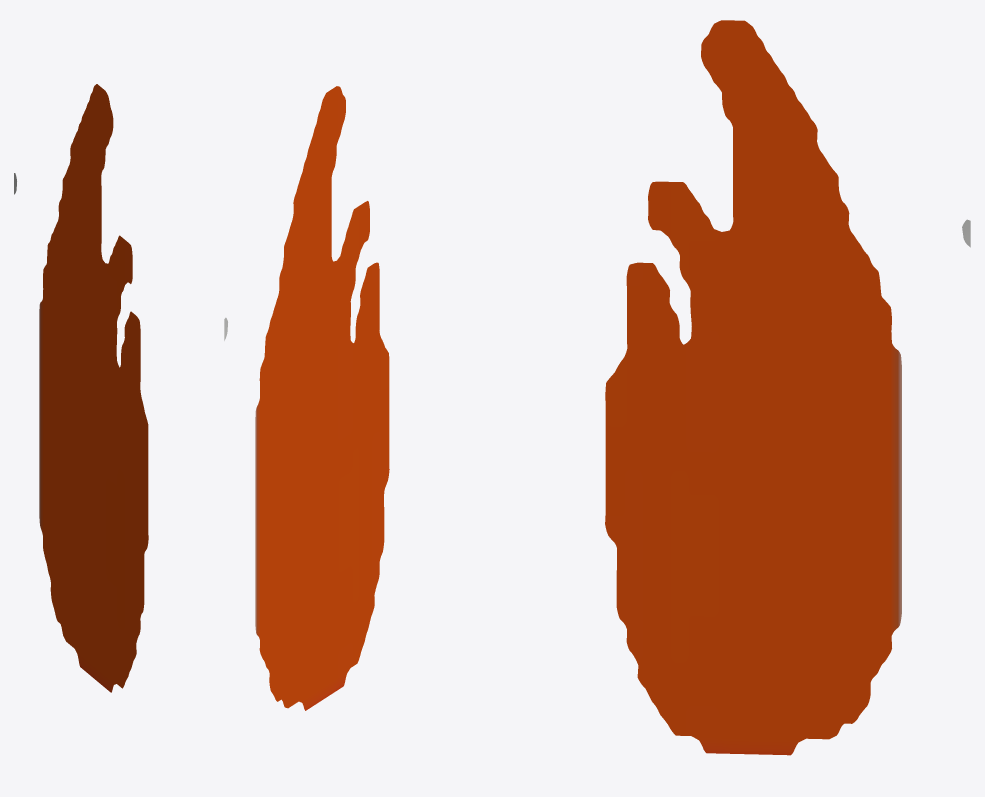
File: fire-torch02-art.glb
3 views of the same model, side by side, from view 1: azimuth 30°, elevation 25°; view 2: azimuth 150°, elevation 25°; view 3: azimuth 270°, elevation 25° (orthographic). The views are drawn at different scales.
Parts seen in each view (by area): view 1: FireTorch02_Art; view 2: FireTorch02_Art; view 3: FireTorch02_Art.
Part boxes in pixels (bbox=[...]): FireTorch02_Art: bbox=[14, 84, 148, 692]; FireTorch02_Art: bbox=[224, 86, 389, 710]; FireTorch02_Art: bbox=[605, 20, 970, 755].
Size of the model in its own units: 0.0188 by 0.5724 by 0.3386.
Materials: 1 (1 with a texture image).
